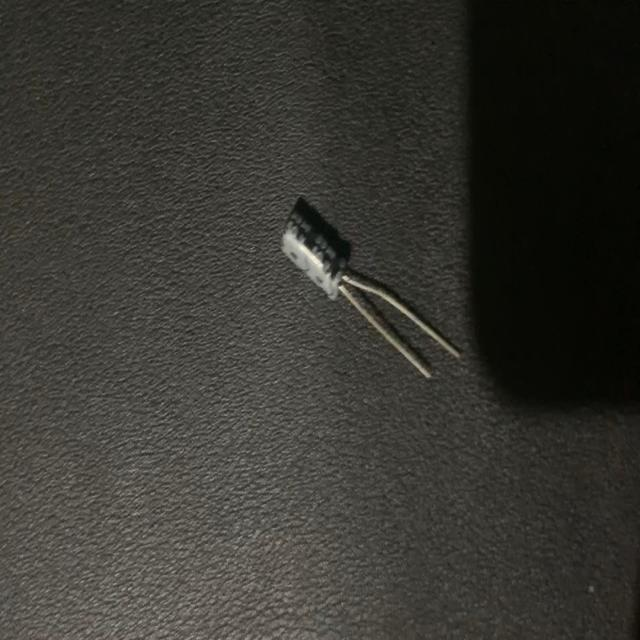capacitor: (281, 206, 459, 379)
